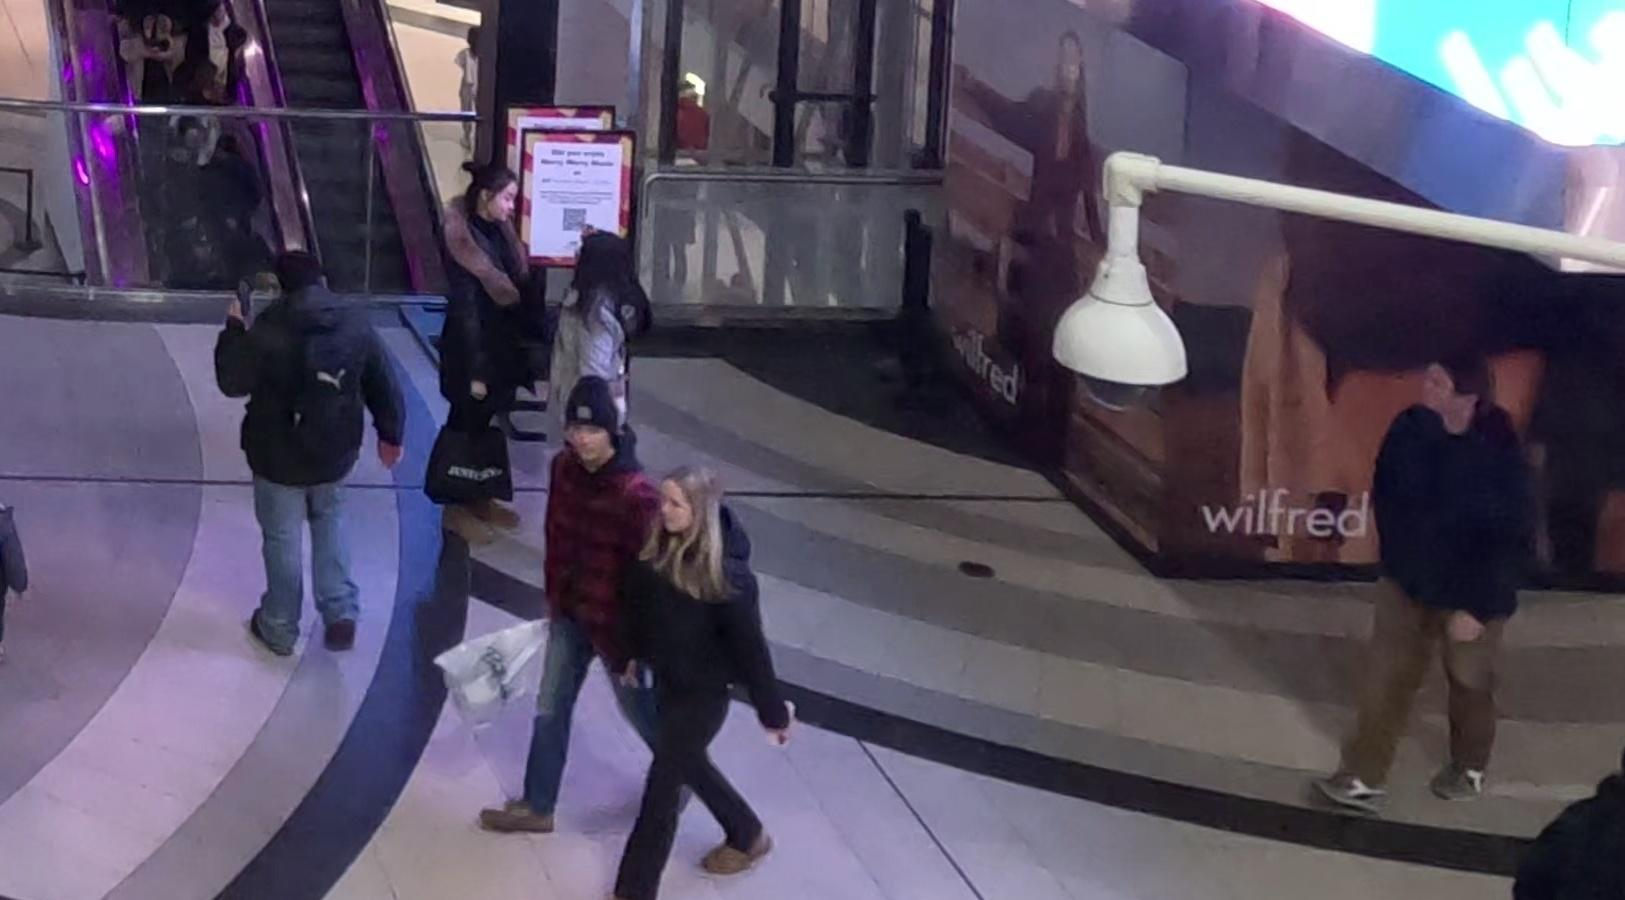person: (1331, 356, 1562, 831), (598, 463, 813, 900), (516, 398, 677, 857), (240, 255, 405, 676), (436, 157, 557, 545), (550, 225, 645, 442)
